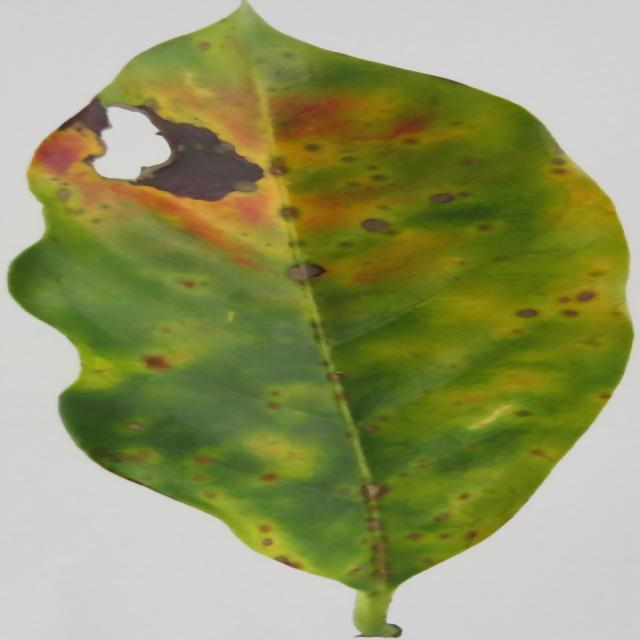DeficienciaNutricional-Fosforo: (9, 4, 631, 638)
